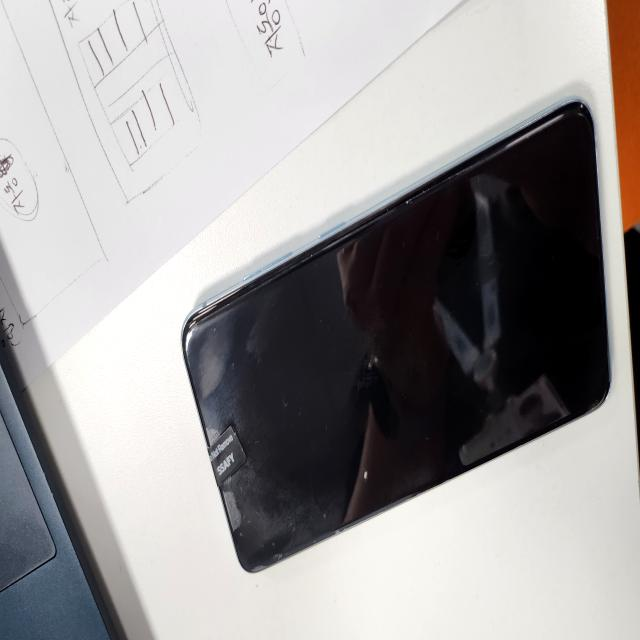phone: (180, 99, 612, 579)
sticker: (206, 427, 248, 489)
